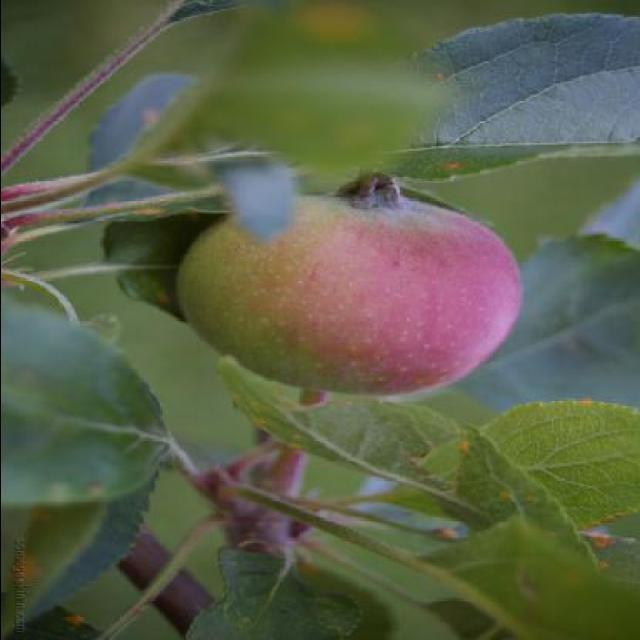Peach: (168, 190, 520, 396)
